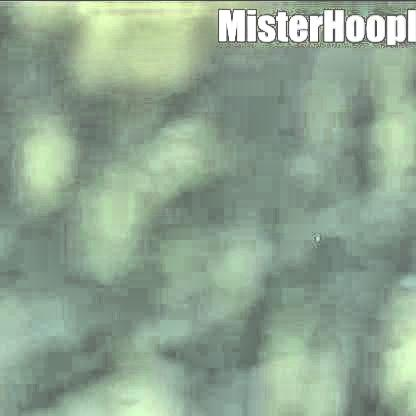golfball: (310, 233, 317, 238)
